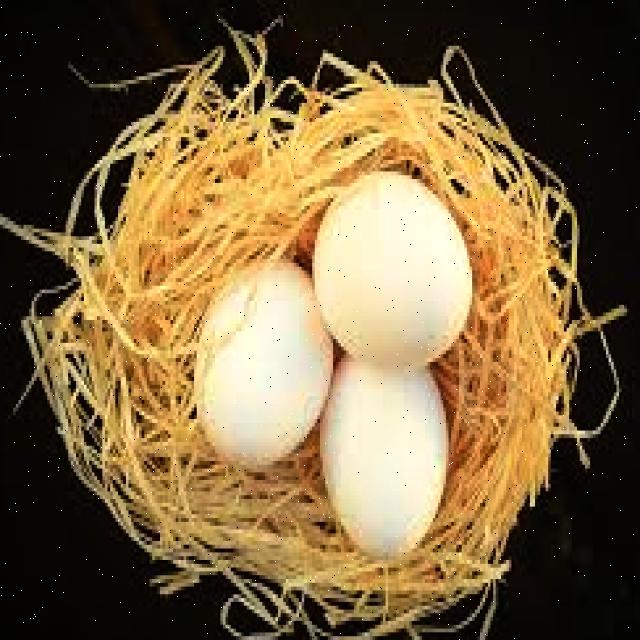White Egg: (193, 257, 335, 468), (316, 190, 470, 377), (323, 362, 447, 562)
